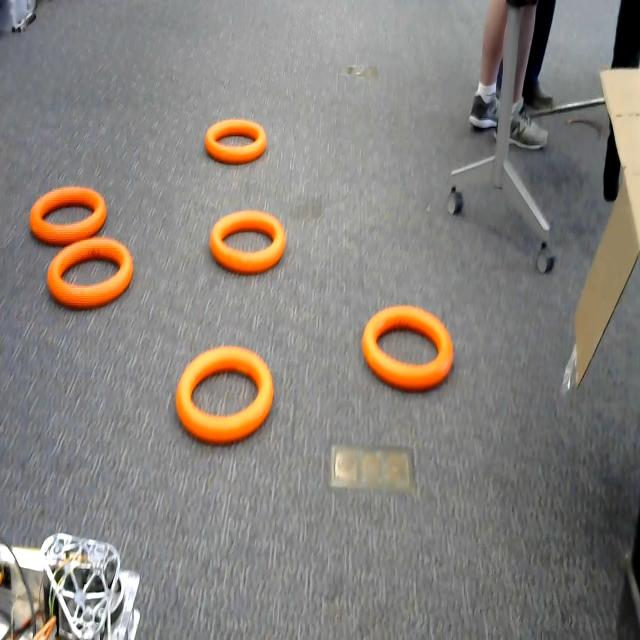note: (171, 339, 279, 448), (361, 298, 460, 401), (43, 238, 138, 316), (210, 206, 286, 280), (30, 181, 114, 240), (204, 116, 268, 167)
